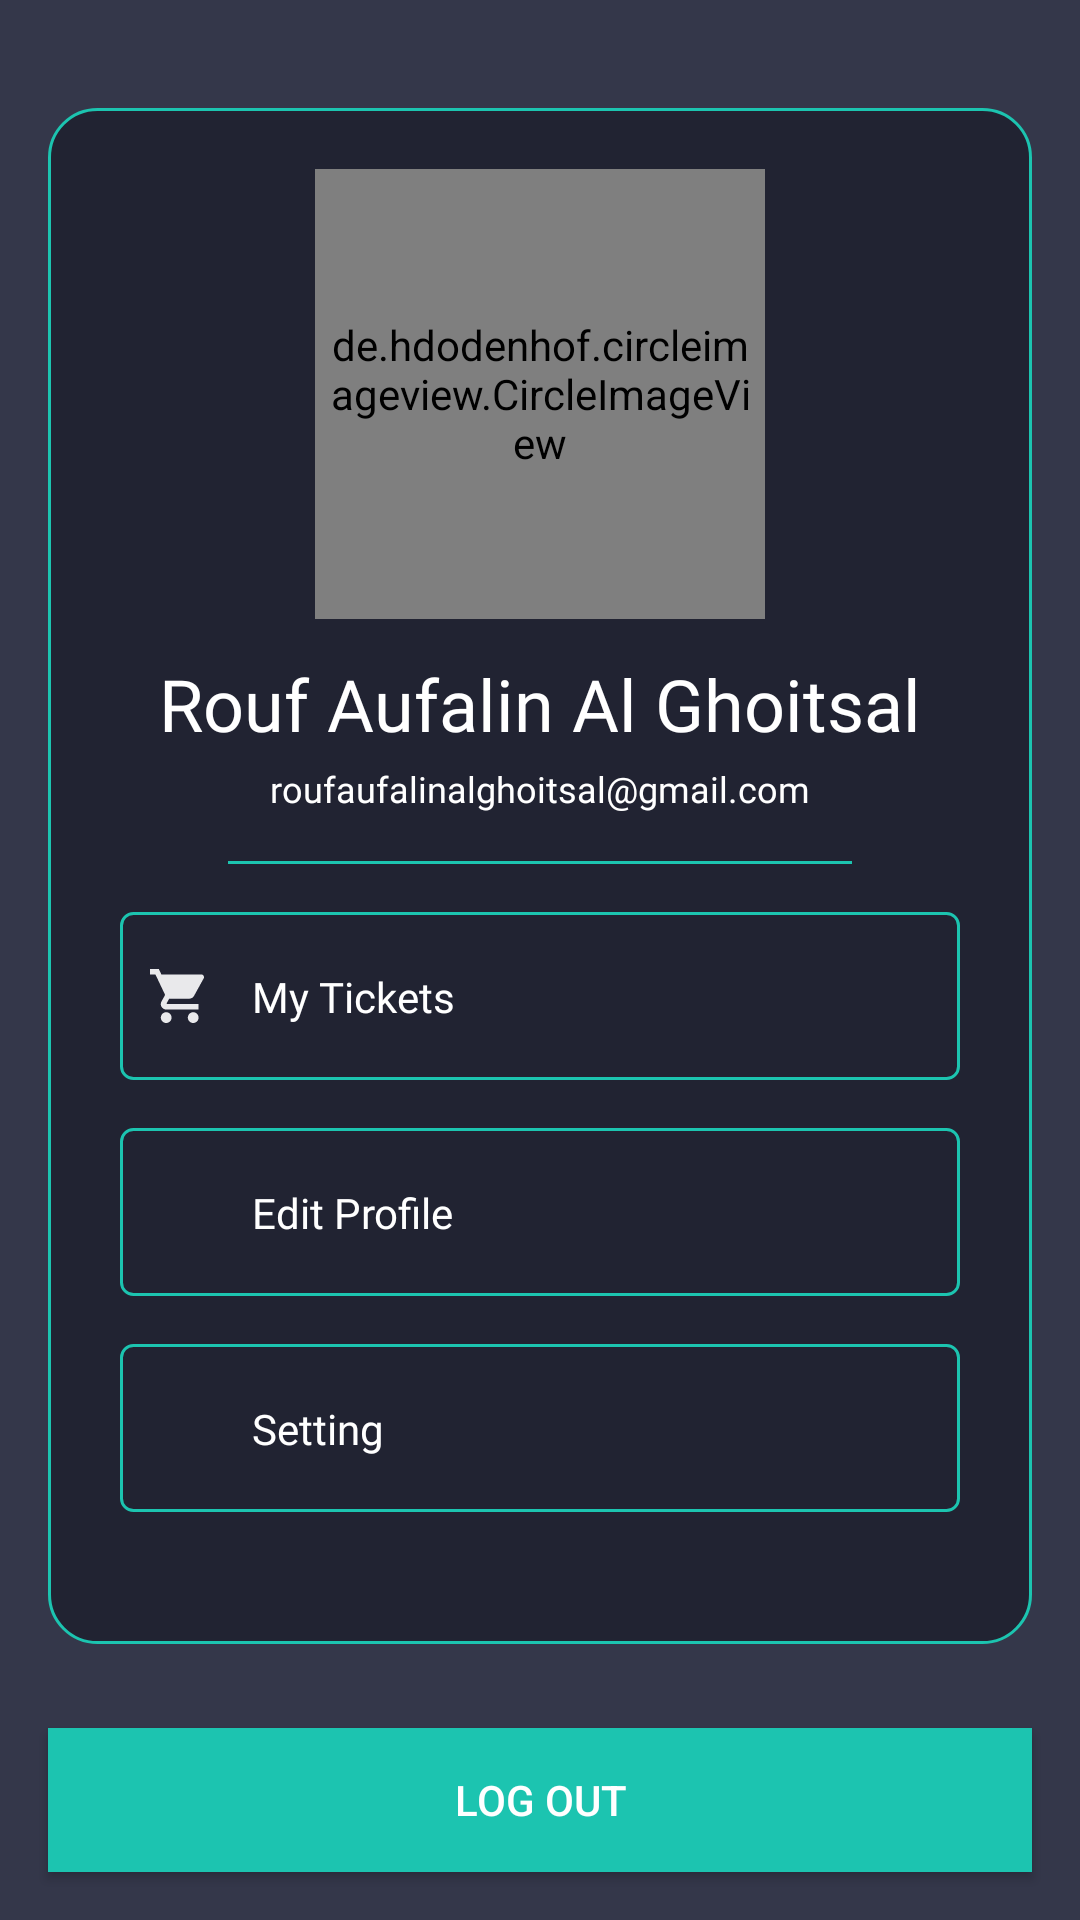

Where icons sit on this 1080 x 1920 app screen, as (x1, y1, x2, y2):
troli: (150, 969, 204, 1023)
